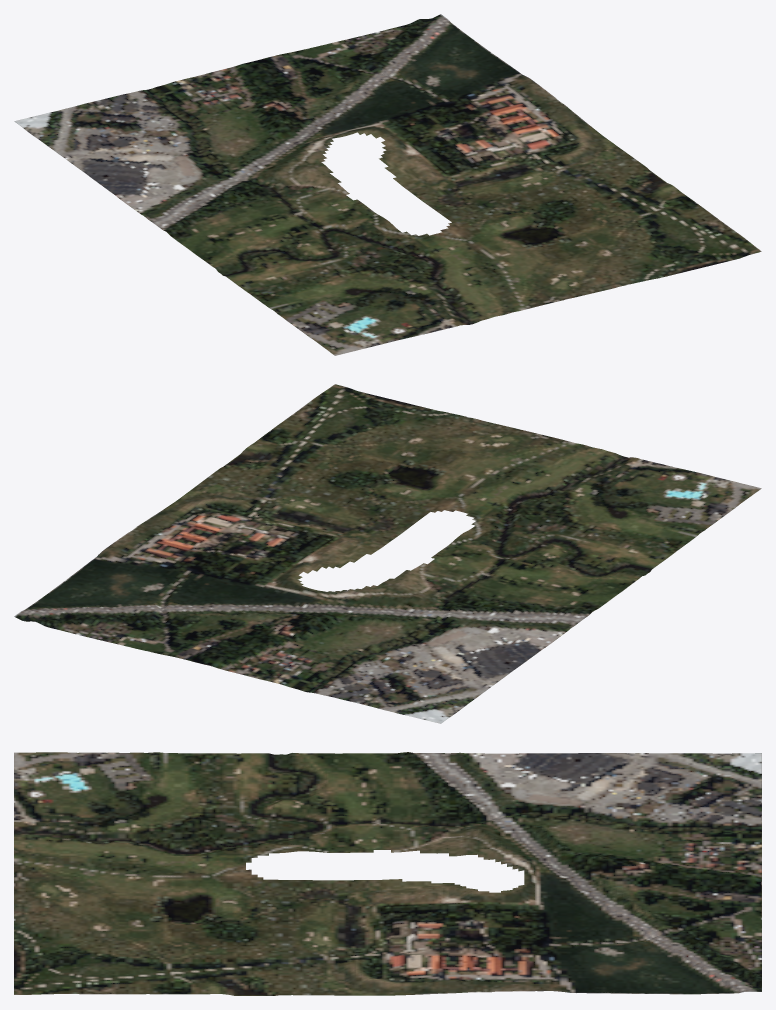
The model's file is black_2_wide.glb.
The picture shows the model from 3 angles, top to bottom: view 1: azimuth 30°, elevation 25°; view 2: azimuth 150°, elevation 25°; view 3: azimuth 270°, elevation 25°; orthographic projection. The views are drawn at different scales.
Visible parts, largest first — view 1: wide; view 2: wide; view 3: wide.
Boxes of the visible parts, left/top/right/bottom form: wide: left=14, top=14, right=761, bottom=355; wide: left=14, top=384, right=761, bottom=723; wide: left=14, top=752, right=761, bottom=995.
Bounding box in the file's own units: 792 × 12.92 × 1032.
1 material, 1 textured.
